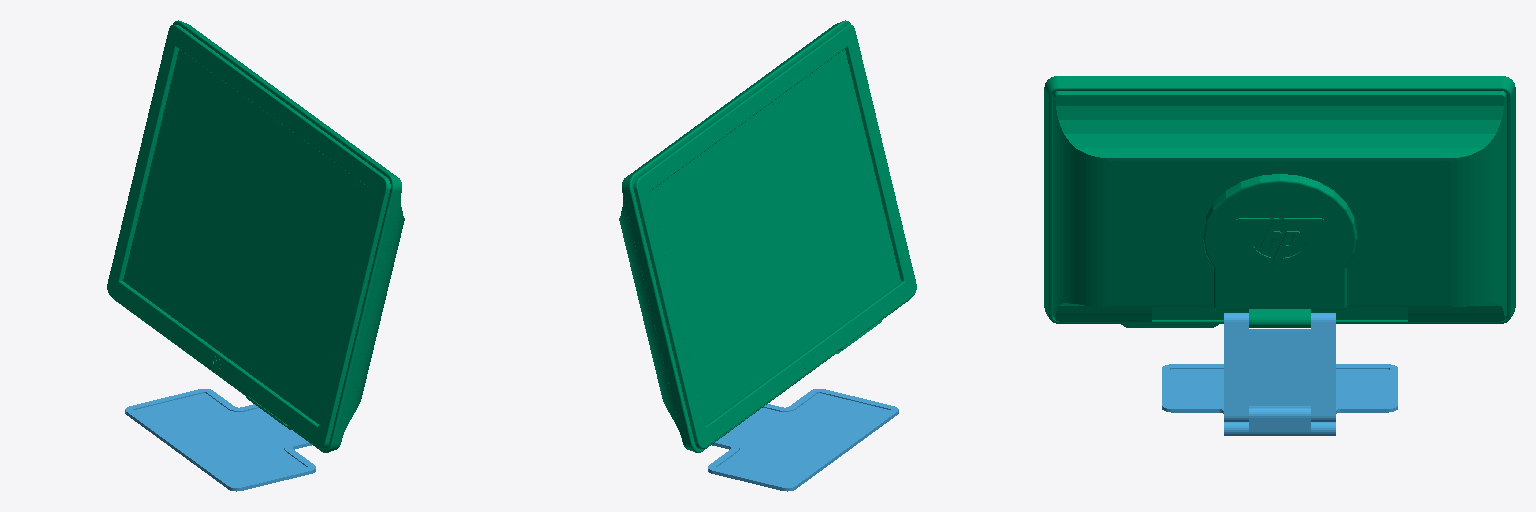
robot.urdf — partnet_288a8917e51c57deb0957d845ac33749:
<?xml version="1.0" ?>
<robot name="partnet_288a8917e51c57deb0957d845ac33749">
	<link name="base"/>
	<link name="link_0">
		<visual name="base_support-4">
			<origin xyz="0 0 0"/>
			<geometry>
				<mesh filename="textured_objs/original-11.obj"/>
			</geometry>
		</visual>
		<visual name="surface-5">
			<origin xyz="0 0 0"/>
			<geometry>
				<mesh filename="textured_objs/original-12.obj"/>
			</geometry>
		</visual>
		<collision>
			<origin xyz="0 0 0"/>
			<geometry>
				<mesh filename="textured_objs/original-11.obj"/>
			</geometry>
		</collision>
		<collision>
			<origin xyz="0 0 0"/>
			<geometry>
				<mesh filename="textured_objs/original-12.obj"/>
			</geometry>
		</collision>
	</link>
	<joint name="joint_0" type="fixed">
		<origin rpy="1.570796326794897 0 -1.570796326794897" xyz="0 0 0"/>
		<child link="link_0"/>
		<parent link="base"/>
	</joint>
	<link name="link_1">
		<visual name="frame-6">
			<origin xyz="-0.19625799999999982 0.22211452809490906 0.09443792251307581"/>
			<geometry>
				<mesh filename="textured_objs/original-25.obj"/>
			</geometry>
		</visual>
		<visual name="frame-6">
			<origin xyz="-0.19625799999999982 0.22211452809490906 0.09443792251307581"/>
			<geometry>
				<mesh filename="textured_objs/original-15.obj"/>
			</geometry>
		</visual>
		<visual name="frame-6">
			<origin xyz="-0.19625799999999982 0.22211452809490906 0.09443792251307581"/>
			<geometry>
				<mesh filename="textured_objs/original-17.obj"/>
			</geometry>
		</visual>
		<visual name="frame-6">
			<origin xyz="-0.19625799999999982 0.22211452809490906 0.09443792251307581"/>
			<geometry>
				<mesh filename="textured_objs/original-18.obj"/>
			</geometry>
		</visual>
		<visual name="frame-6">
			<origin xyz="-0.19625799999999982 0.22211452809490906 0.09443792251307581"/>
			<geometry>
				<mesh filename="textured_objs/original-16.obj"/>
			</geometry>
		</visual>
		<visual name="frame-6">
			<origin xyz="-0.19625799999999982 0.22211452809490906 0.09443792251307581"/>
			<geometry>
				<mesh filename="textured_objs/original-4.obj"/>
			</geometry>
		</visual>
		<visual name="frame-6">
			<origin xyz="-0.19625799999999982 0.22211452809490906 0.09443792251307581"/>
			<geometry>
				<mesh filename="textured_objs/original-3.obj"/>
			</geometry>
		</visual>
		<visual name="frame-6">
			<origin xyz="-0.19625799999999982 0.22211452809490906 0.09443792251307581"/>
			<geometry>
				<mesh filename="textured_objs/original-2.obj"/>
			</geometry>
		</visual>
		<visual name="frame-6">
			<origin xyz="-0.19625799999999982 0.22211452809490906 0.09443792251307581"/>
			<geometry>
				<mesh filename="textured_objs/original-5.obj"/>
			</geometry>
		</visual>
		<visual name="frame-6">
			<origin xyz="-0.19625799999999982 0.22211452809490906 0.09443792251307581"/>
			<geometry>
				<mesh filename="textured_objs/original-24.obj"/>
			</geometry>
		</visual>
		<visual name="frame-6">
			<origin xyz="-0.19625799999999982 0.22211452809490906 0.09443792251307581"/>
			<geometry>
				<mesh filename="textured_objs/original-6.obj"/>
			</geometry>
		</visual>
		<visual name="frame-6">
			<origin xyz="-0.19625799999999982 0.22211452809490906 0.09443792251307581"/>
			<geometry>
				<mesh filename="textured_objs/original-7.obj"/>
			</geometry>
		</visual>
		<visual name="frame-6">
			<origin xyz="-0.19625799999999982 0.22211452809490906 0.09443792251307581"/>
			<geometry>
				<mesh filename="textured_objs/original-8.obj"/>
			</geometry>
		</visual>
		<visual name="frame-6">
			<origin xyz="-0.19625799999999982 0.22211452809490906 0.09443792251307581"/>
			<geometry>
				<mesh filename="textured_objs/original-26.obj"/>
			</geometry>
		</visual>
		<visual name="frame-6">
			<origin xyz="-0.19625799999999982 0.22211452809490906 0.09443792251307581"/>
			<geometry>
				<mesh filename="textured_objs/original-20.obj"/>
			</geometry>
		</visual>
		<visual name="frame-6">
			<origin xyz="-0.19625799999999982 0.22211452809490906 0.09443792251307581"/>
			<geometry>
				<mesh filename="textured_objs/original-21.obj"/>
			</geometry>
		</visual>
		<visual name="frame-6">
			<origin xyz="-0.19625799999999982 0.22211452809490906 0.09443792251307581"/>
			<geometry>
				<mesh filename="textured_objs/original-23.obj"/>
			</geometry>
		</visual>
		<visual name="frame-6">
			<origin xyz="-0.19625799999999982 0.22211452809490906 0.09443792251307581"/>
			<geometry>
				<mesh filename="textured_objs/original-22.obj"/>
			</geometry>
		</visual>
		<visual name="screen-7">
			<origin xyz="-0.19625799999999982 0.22211452809490906 0.09443792251307581"/>
			<geometry>
				<mesh filename="textured_objs/original-27.obj"/>
			</geometry>
		</visual>
		<collision>
			<origin xyz="-0.19625799999999982 0.22211452809490906 0.09443792251307581"/>
			<geometry>
				<mesh filename="textured_objs/original-25.obj"/>
			</geometry>
		</collision>
		<collision>
			<origin xyz="-0.19625799999999982 0.22211452809490906 0.09443792251307581"/>
			<geometry>
				<mesh filename="textured_objs/original-15.obj"/>
			</geometry>
		</collision>
		<collision>
			<origin xyz="-0.19625799999999982 0.22211452809490906 0.09443792251307581"/>
			<geometry>
				<mesh filename="textured_objs/original-17.obj"/>
			</geometry>
		</collision>
		<collision>
			<origin xyz="-0.19625799999999982 0.22211452809490906 0.09443792251307581"/>
			<geometry>
				<mesh filename="textured_objs/original-18.obj"/>
			</geometry>
		</collision>
		<collision>
			<origin xyz="-0.19625799999999982 0.22211452809490906 0.09443792251307581"/>
			<geometry>
				<mesh filename="textured_objs/original-16.obj"/>
			</geometry>
		</collision>
		<collision>
			<origin xyz="-0.19625799999999982 0.22211452809490906 0.09443792251307581"/>
			<geometry>
				<mesh filename="textured_objs/original-4.obj"/>
			</geometry>
		</collision>
		<collision>
			<origin xyz="-0.19625799999999982 0.22211452809490906 0.09443792251307581"/>
			<geometry>
				<mesh filename="textured_objs/original-3.obj"/>
			</geometry>
		</collision>
		<collision>
			<origin xyz="-0.19625799999999982 0.22211452809490906 0.09443792251307581"/>
			<geometry>
				<mesh filename="textured_objs/original-2.obj"/>
			</geometry>
		</collision>
		<collision>
			<origin xyz="-0.19625799999999982 0.22211452809490906 0.09443792251307581"/>
			<geometry>
				<mesh filename="textured_objs/original-5.obj"/>
			</geometry>
		</collision>
		<collision>
			<origin xyz="-0.19625799999999982 0.22211452809490906 0.09443792251307581"/>
			<geometry>
				<mesh filename="textured_objs/original-24.obj"/>
			</geometry>
		</collision>
		<collision>
			<origin xyz="-0.19625799999999982 0.22211452809490906 0.09443792251307581"/>
			<geometry>
				<mesh filename="textured_objs/original-6.obj"/>
			</geometry>
		</collision>
		<collision>
			<origin xyz="-0.19625799999999982 0.22211452809490906 0.09443792251307581"/>
			<geometry>
				<mesh filename="textured_objs/original-7.obj"/>
			</geometry>
		</collision>
		<collision>
			<origin xyz="-0.19625799999999982 0.22211452809490906 0.09443792251307581"/>
			<geometry>
				<mesh filename="textured_objs/original-8.obj"/>
			</geometry>
		</collision>
		<collision>
			<origin xyz="-0.19625799999999982 0.22211452809490906 0.09443792251307581"/>
			<geometry>
				<mesh filename="textured_objs/original-26.obj"/>
			</geometry>
		</collision>
		<collision>
			<origin xyz="-0.19625799999999982 0.22211452809490906 0.09443792251307581"/>
			<geometry>
				<mesh filename="textured_objs/original-20.obj"/>
			</geometry>
		</collision>
		<collision>
			<origin xyz="-0.19625799999999982 0.22211452809490906 0.09443792251307581"/>
			<geometry>
				<mesh filename="textured_objs/original-21.obj"/>
			</geometry>
		</collision>
		<collision>
			<origin xyz="-0.19625799999999982 0.22211452809490906 0.09443792251307581"/>
			<geometry>
				<mesh filename="textured_objs/original-23.obj"/>
			</geometry>
		</collision>
		<collision>
			<origin xyz="-0.19625799999999982 0.22211452809490906 0.09443792251307581"/>
			<geometry>
				<mesh filename="textured_objs/original-22.obj"/>
			</geometry>
		</collision>
		<collision>
			<origin xyz="-0.19625799999999982 0.22211452809490906 0.09443792251307581"/>
			<geometry>
				<mesh filename="textured_objs/original-27.obj"/>
			</geometry>
		</collision>
	</link>
	<joint name="joint_1" type="revolute">
		<origin xyz="0.19625799999999982 -0.22211452809490906 -0.09443792251307581"/>
		<axis xyz="-1 0 0"/>
		<child link="link_1"/>
		<parent link="link_0"/>
		<limit lower="-1.231504320207199" upper="1.7969909978533622"/>
	</joint>
</robot>

--- What the picture shows (computed from the rendered views, not written in the file) ---
Views: 3 orthographic renders of the robot side by side, from view 1: azimuth 30°, elevation 25°; view 2: azimuth 150°, elevation 25°; view 3: azimuth 270°, elevation 25°.
Robot: partnet_288a8917e51c57deb0957d845ac33749 — 3 links, 2 joints (1 revolute, 1 fixed); root link base; default pose: all joints at 0.
Links seen in each view (by area): view 1: link_1, link_0; view 2: link_1, link_0; view 3: link_1, link_0.
Link boxes in pixels (x1,y1,x2,y2): link_1: (107,20,404,452); link_0: (125,389,315,491); link_1: (619,20,916,452); link_0: (708,389,898,491); link_1: (1044,76,1515,327); link_0: (1162,313,1397,435).
Size in the robot's own frame: 0.5921 by 1.61 by 1.31 metres.
21 mesh visuals loaded from 21 distinct referenced files (21 OBJ).
